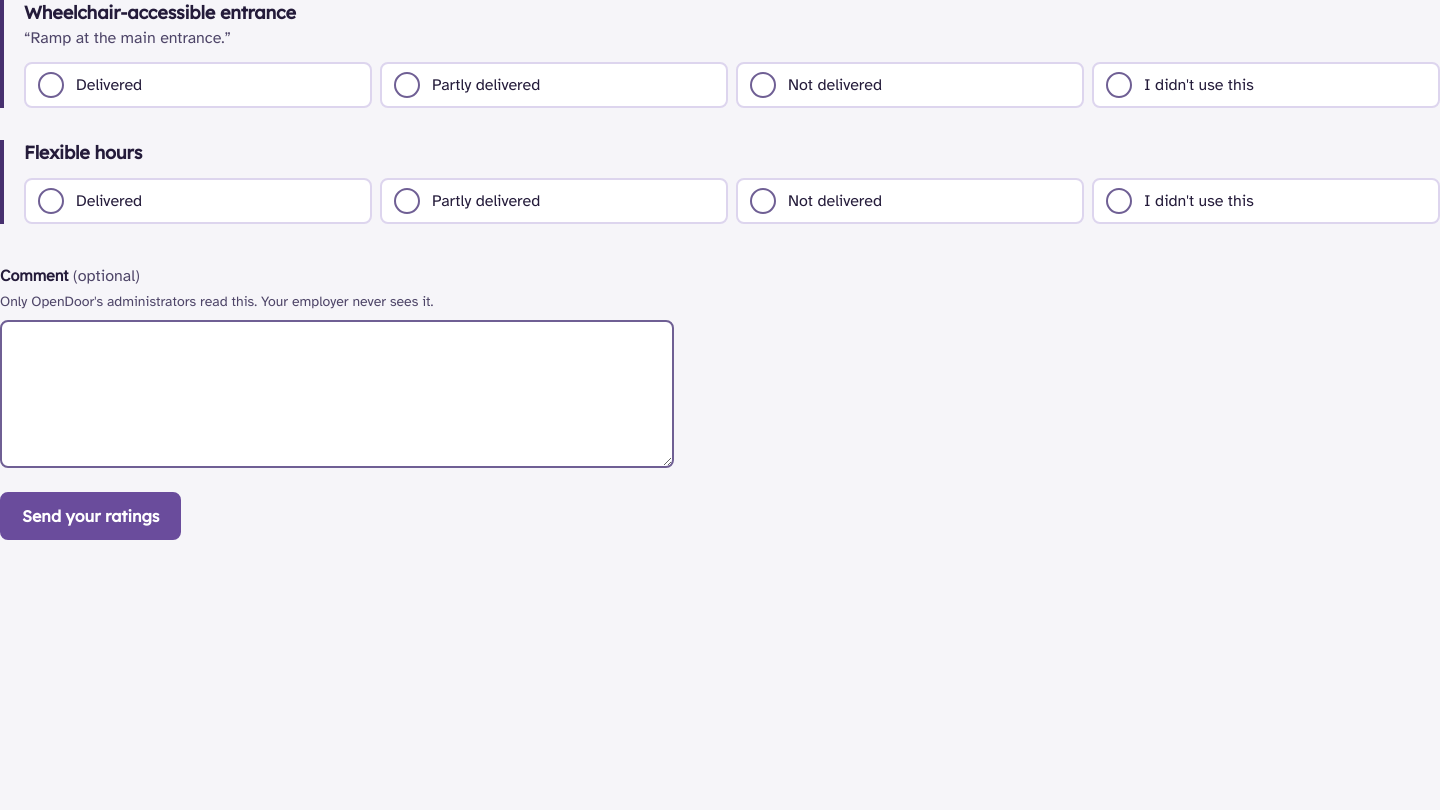
Scenario: FeedbackForm › shows the server's answer errors on their rows
What coordinates should you click on to do the following:
click the radio button labelled "Delivered" below "Ramp at the main entrance."
I would click on:
 (51, 85)
Its box is [38, 72, 64, 98].
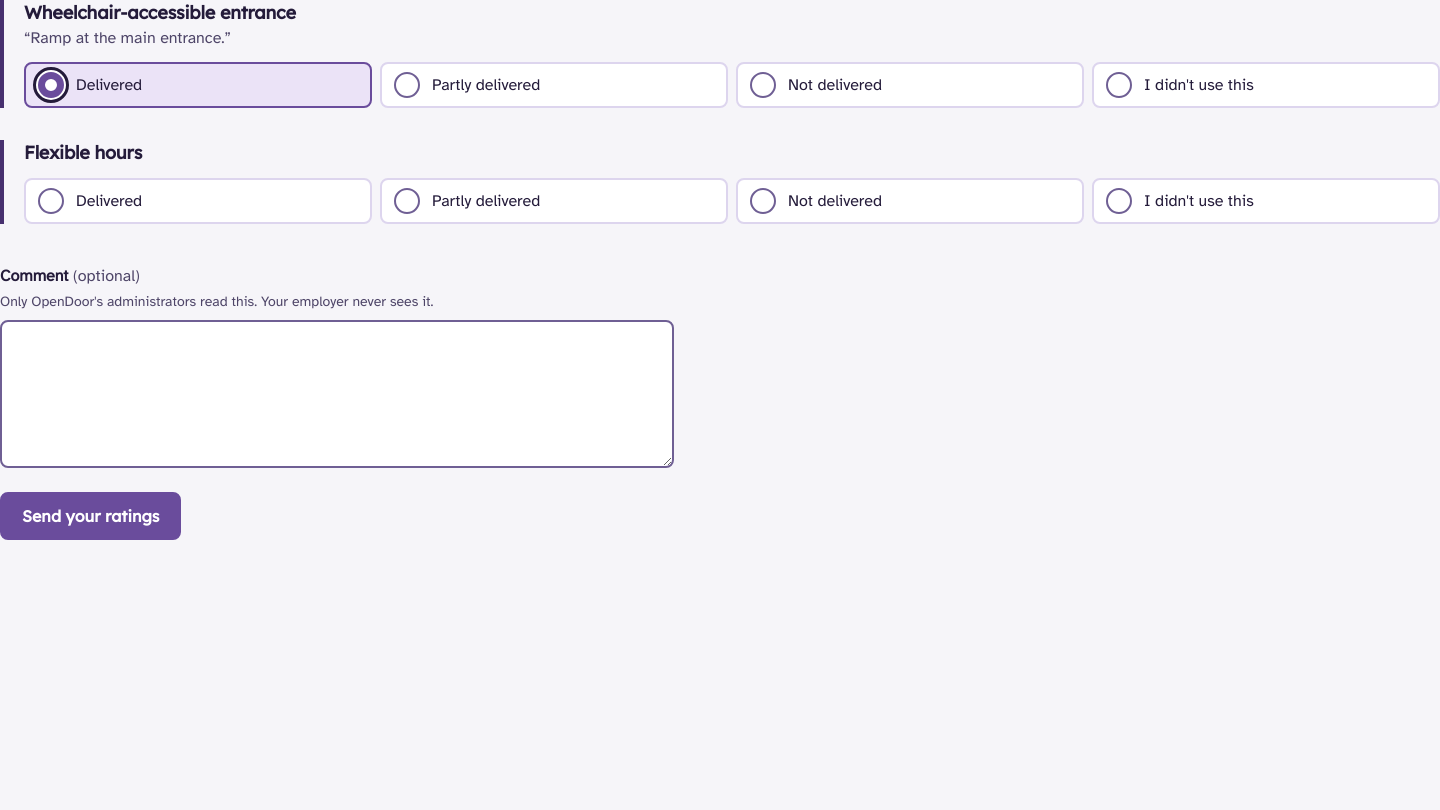
What coordinates should you click on to do the following:
click the radio button labelled "Delivered" below "Flexible hours"
I would click on:
 (51, 201)
Its box is [38, 188, 64, 214].
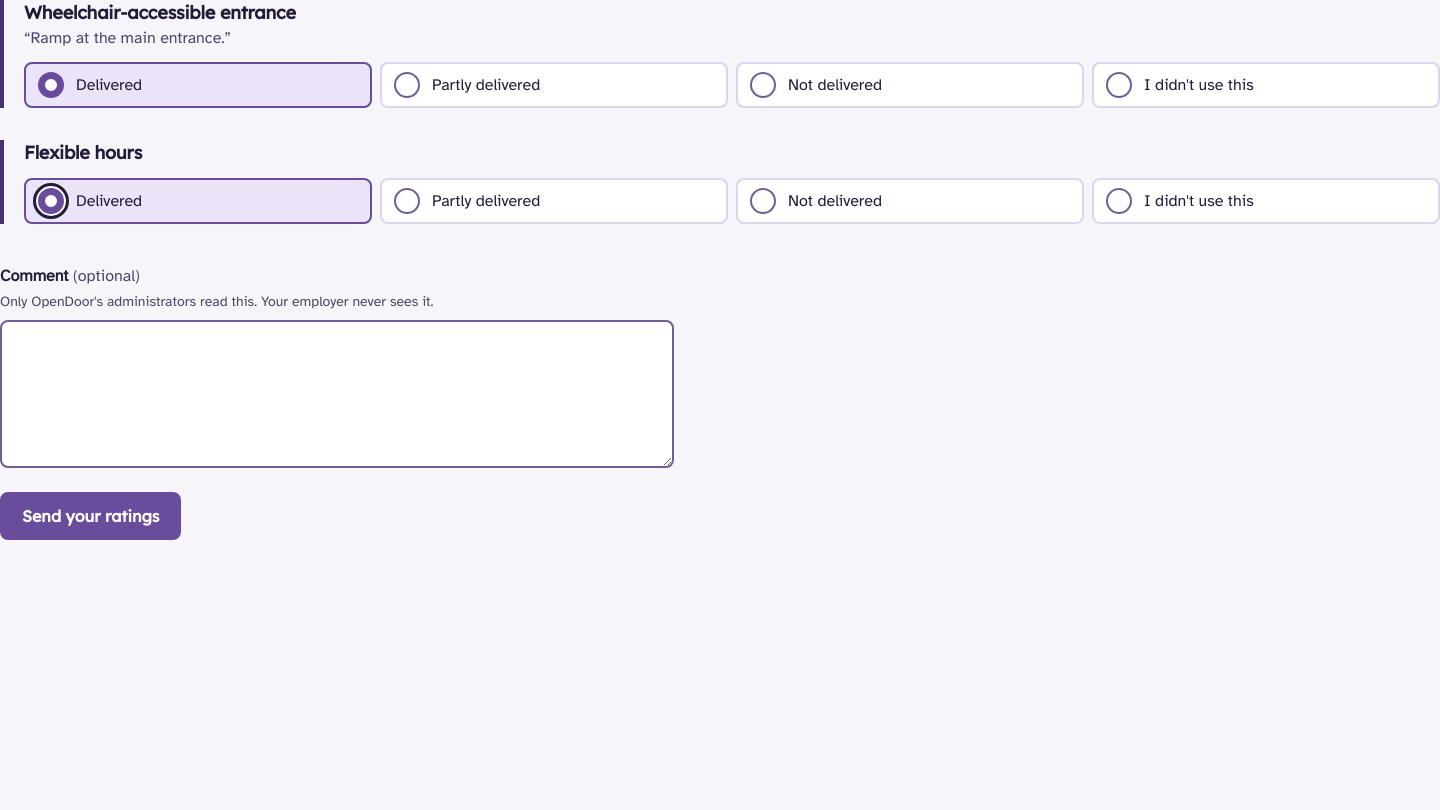
What coordinates should you click on to do the following:
click the button "Send your ratings"
I would click on:
 (91, 516)
Its box is [0, 492, 181, 540].
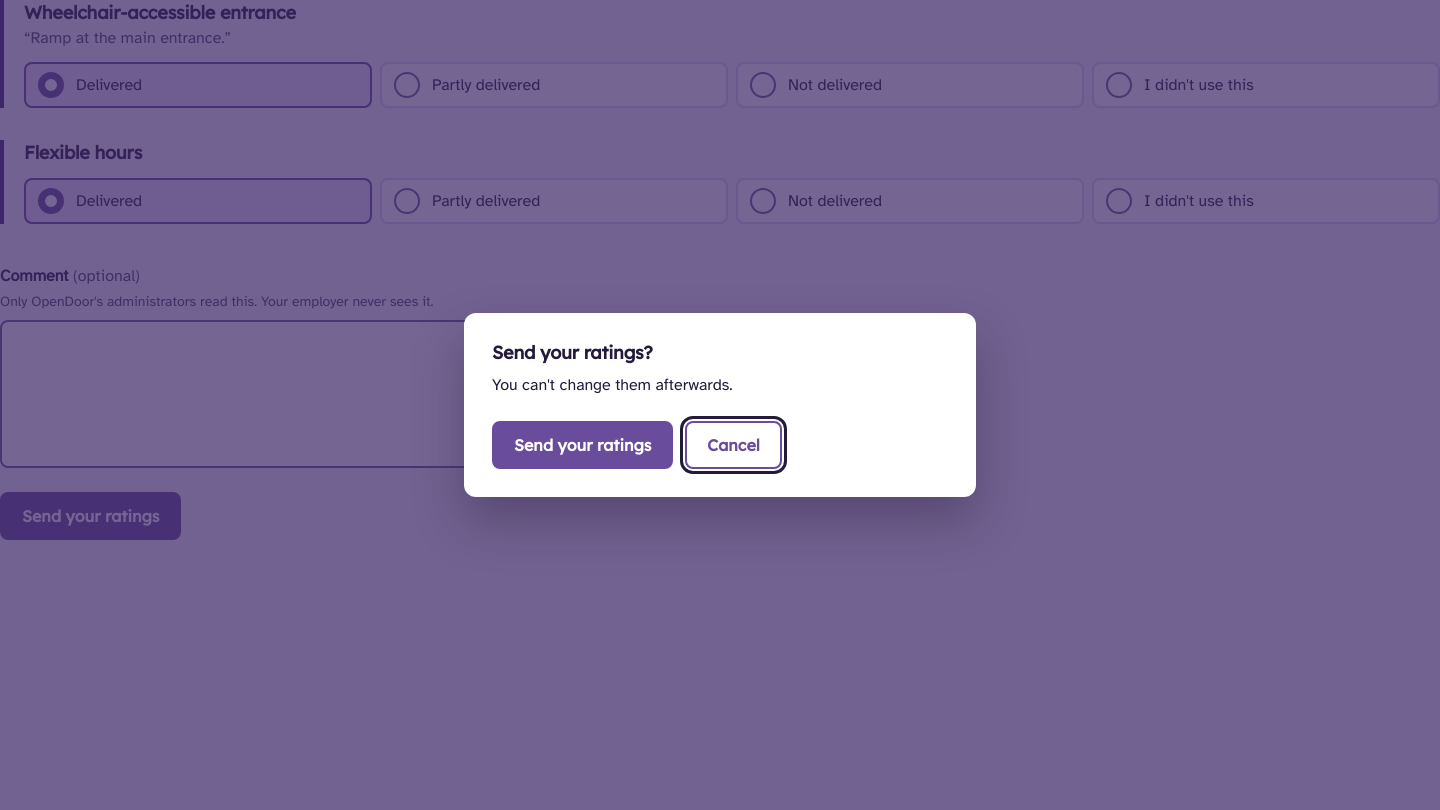
What coordinates should you click on to do the following:
click the button "Send your ratings"
I would click on:
 (583, 445)
Its box is [492, 421, 673, 469].
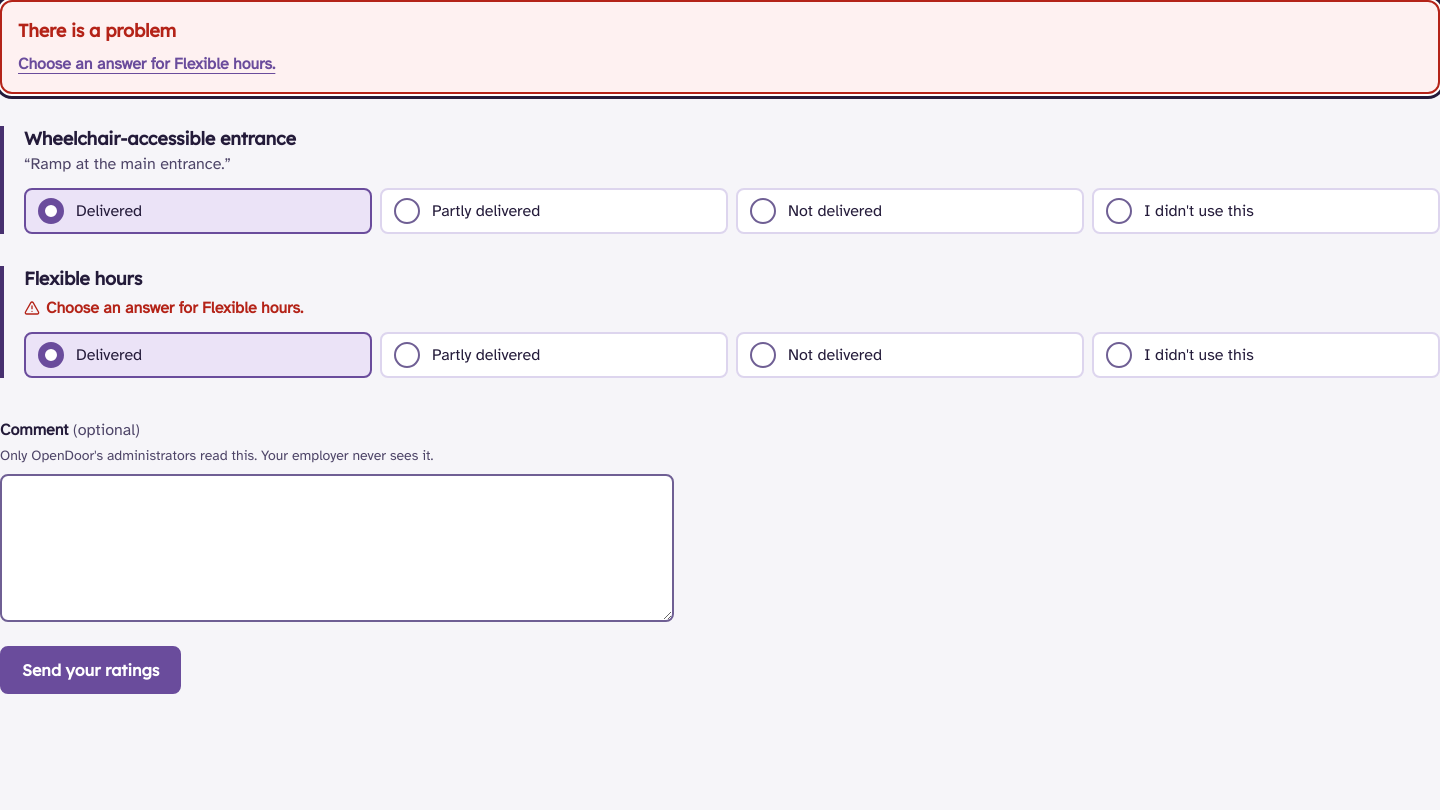
Now the link "Choose an answer for Flexible hours." is shown, box [18, 54, 275, 74]
Now the dialog is gone
